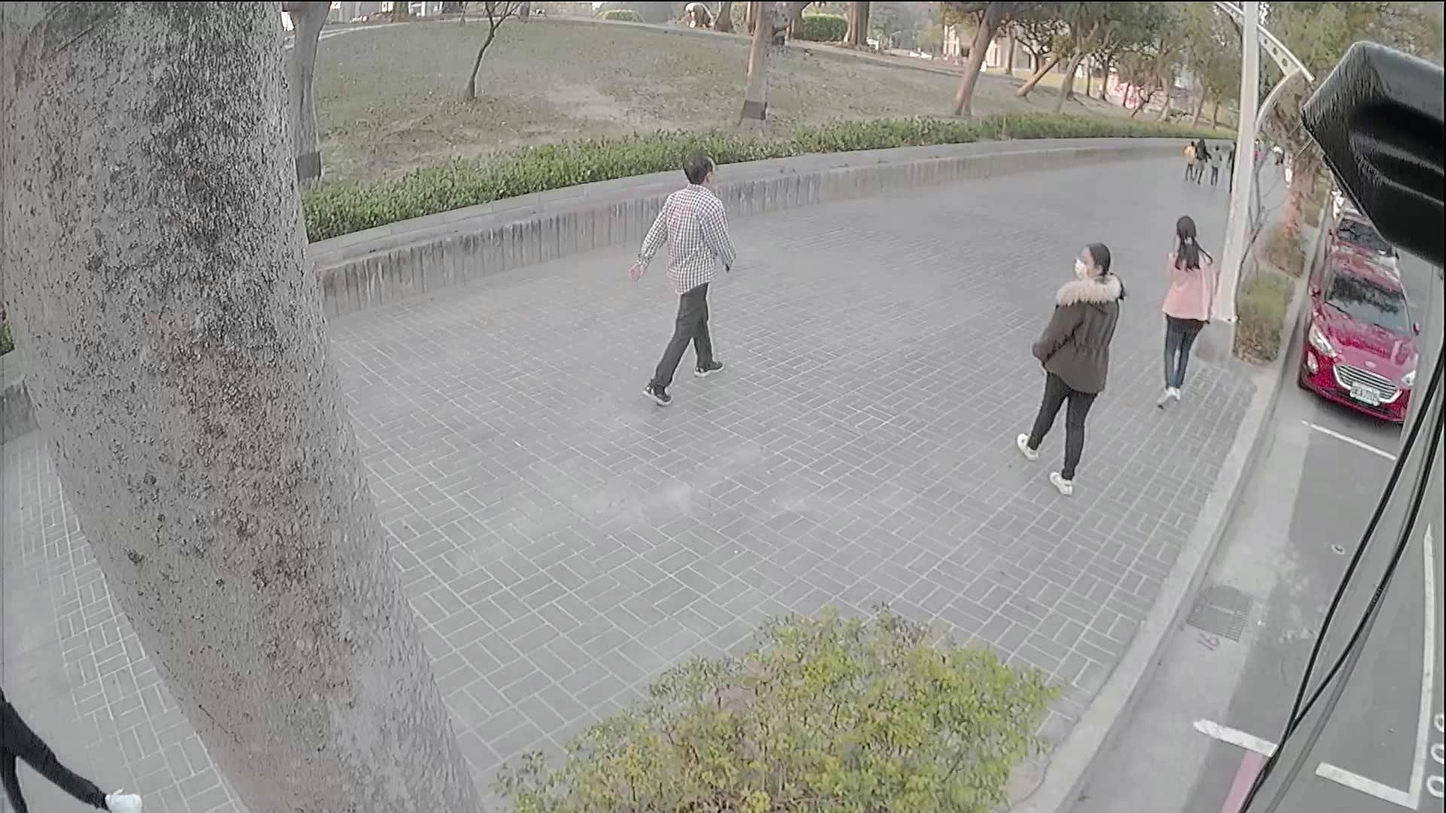person: (627, 146, 736, 403), (1015, 242, 1124, 492), (0, 686, 139, 808), (1155, 215, 1218, 406)
